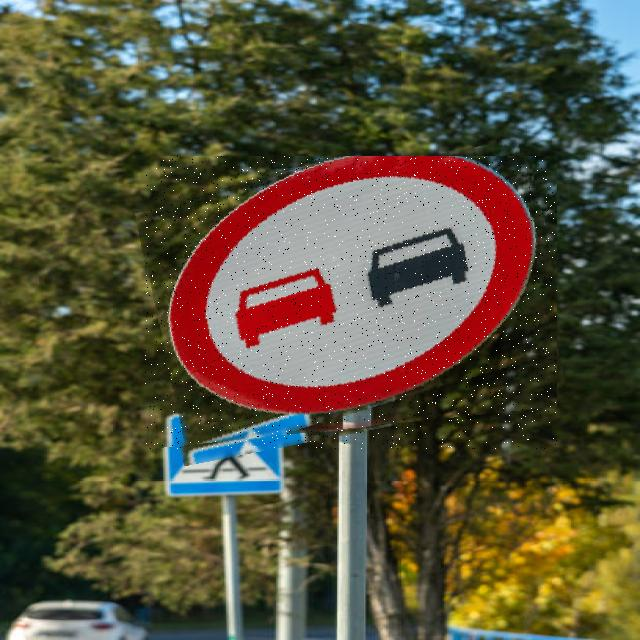no overtaking: (145, 156, 557, 449)
